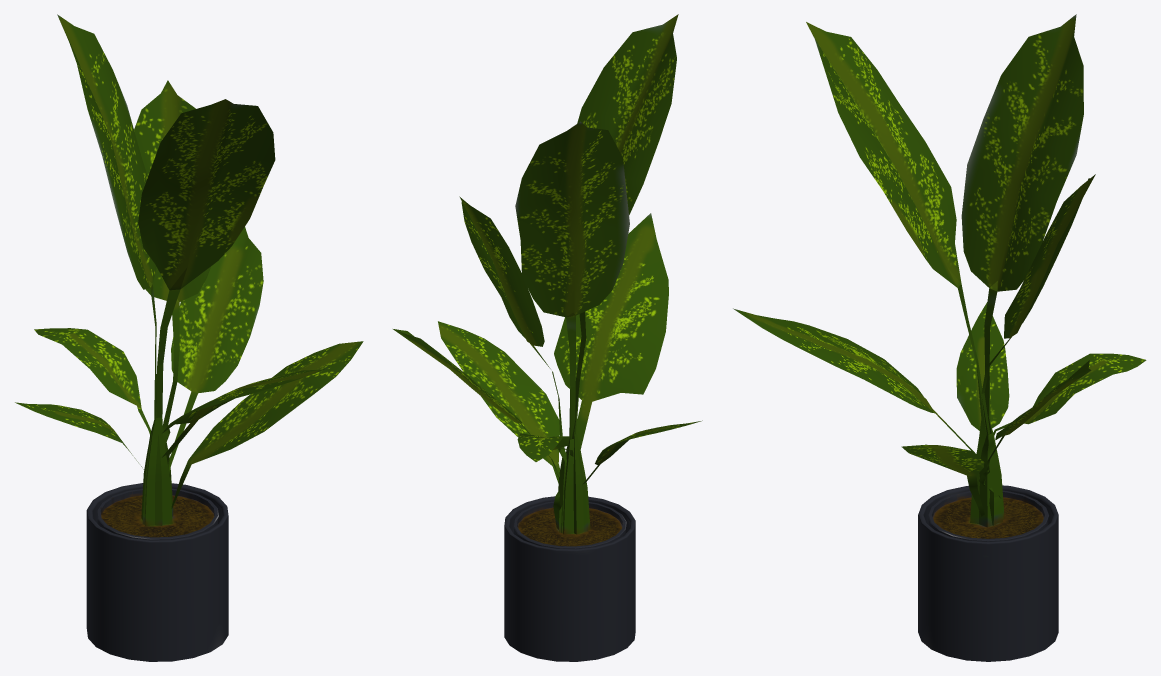
File: plant_2.gltf
3 renders of one model, left to right at view 1: azimuth 30°, elevation 25°; view 2: azimuth 150°, elevation 25°; view 3: azimuth 270°, elevation 25°, orthographic. The views are drawn at different scales.
Visible parts, largest first — view 1: PotPlant; view 2: PotPlant; view 3: PotPlant.
Boxes of the visible parts, <box> form: PotPlant: <box>15,14,363,661</box>; PotPlant: <box>393,14,702,661</box>; PotPlant: <box>733,14,1146,661</box>.
Bounding box in the file's own units: 11.16 × 20.34 × 12.76.
